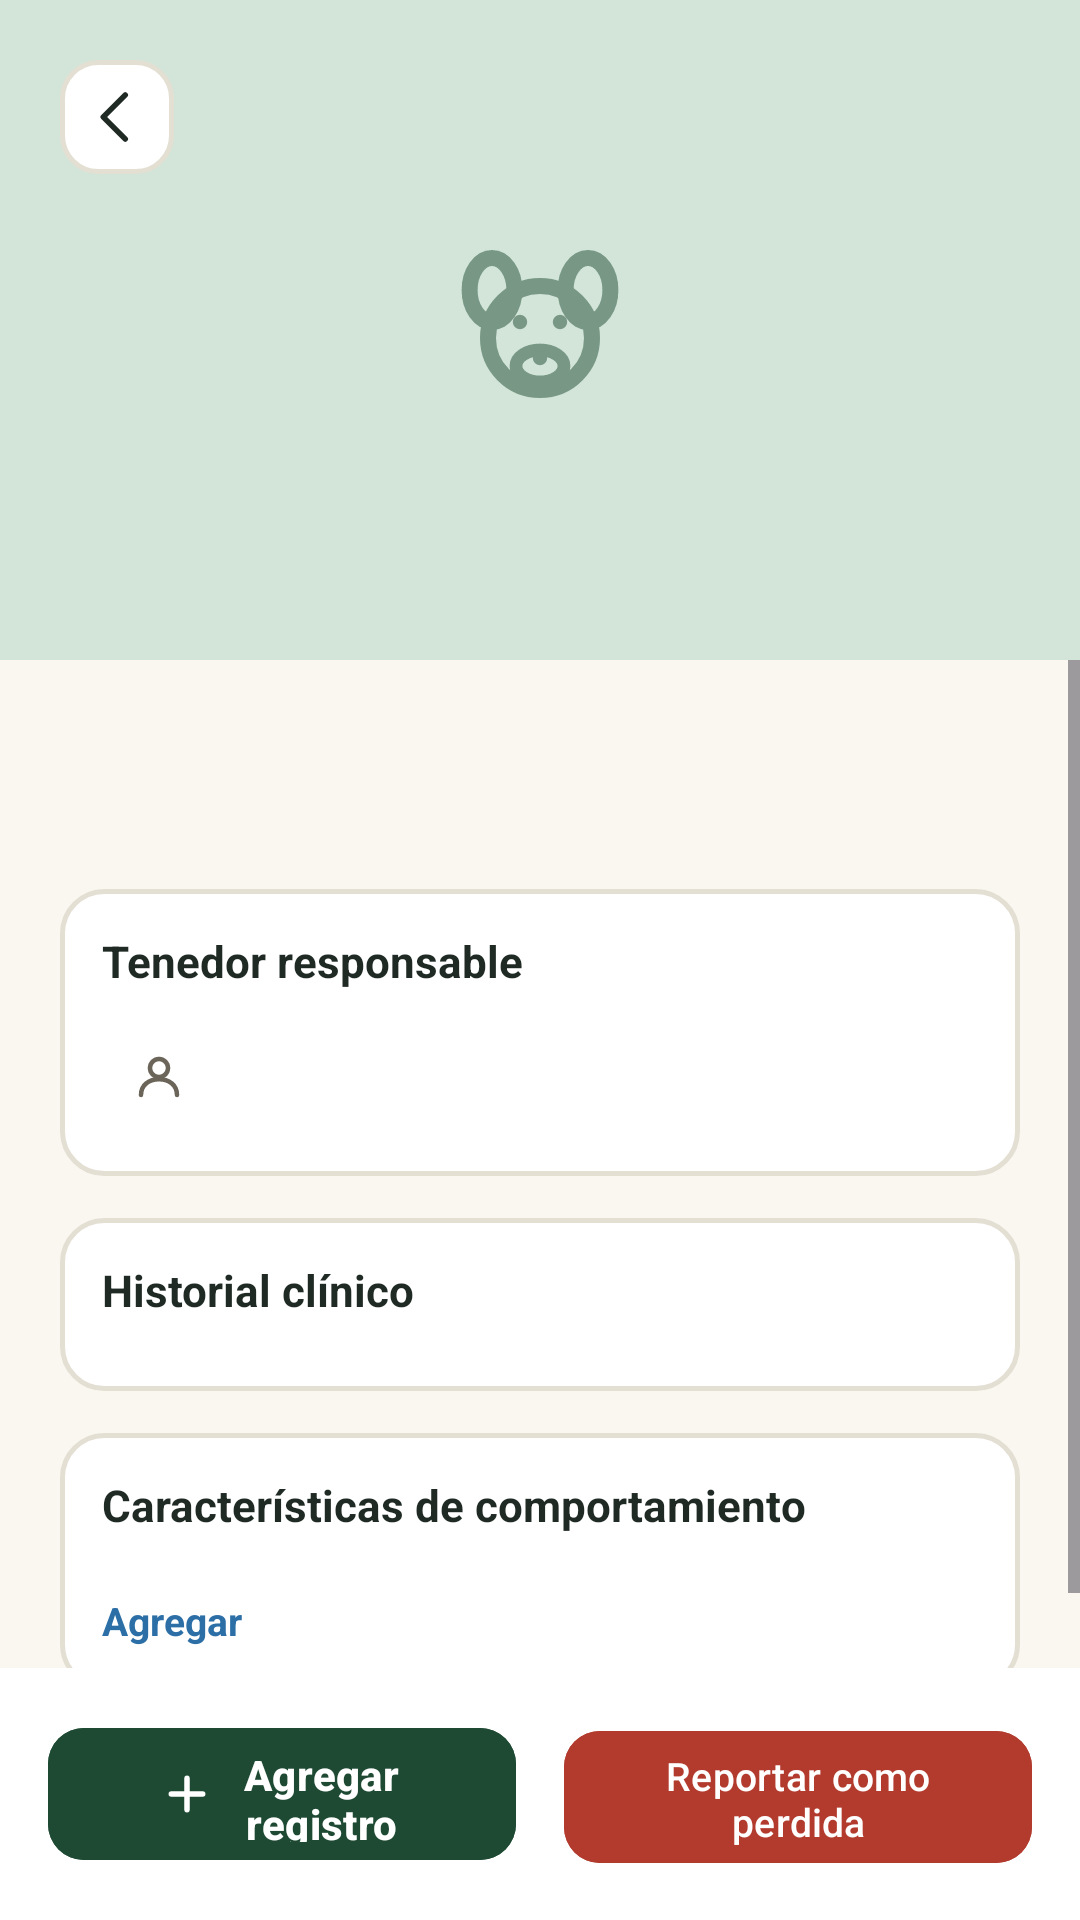

Screen size 1080x1920. Icon name, then its box in pixels as (x1, y1, x2, y2):
profile: (138, 1056, 180, 1097)
← Atrás: (65, 65, 169, 169)
